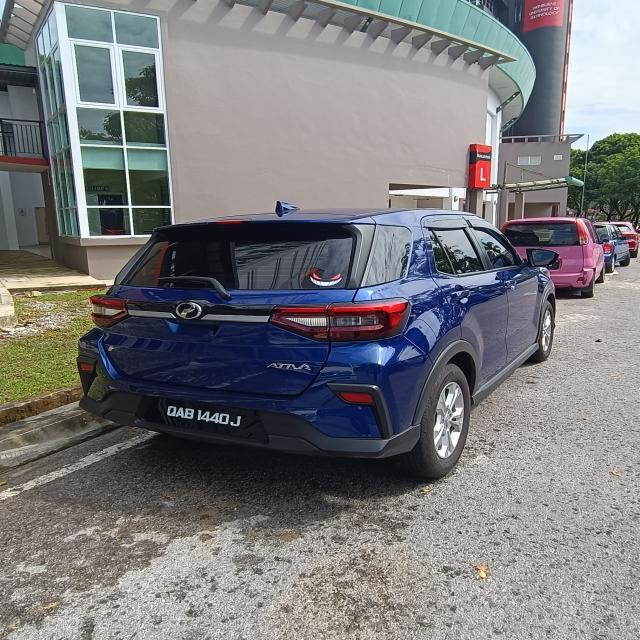PeroduaAtiva: (75, 200, 559, 480)
